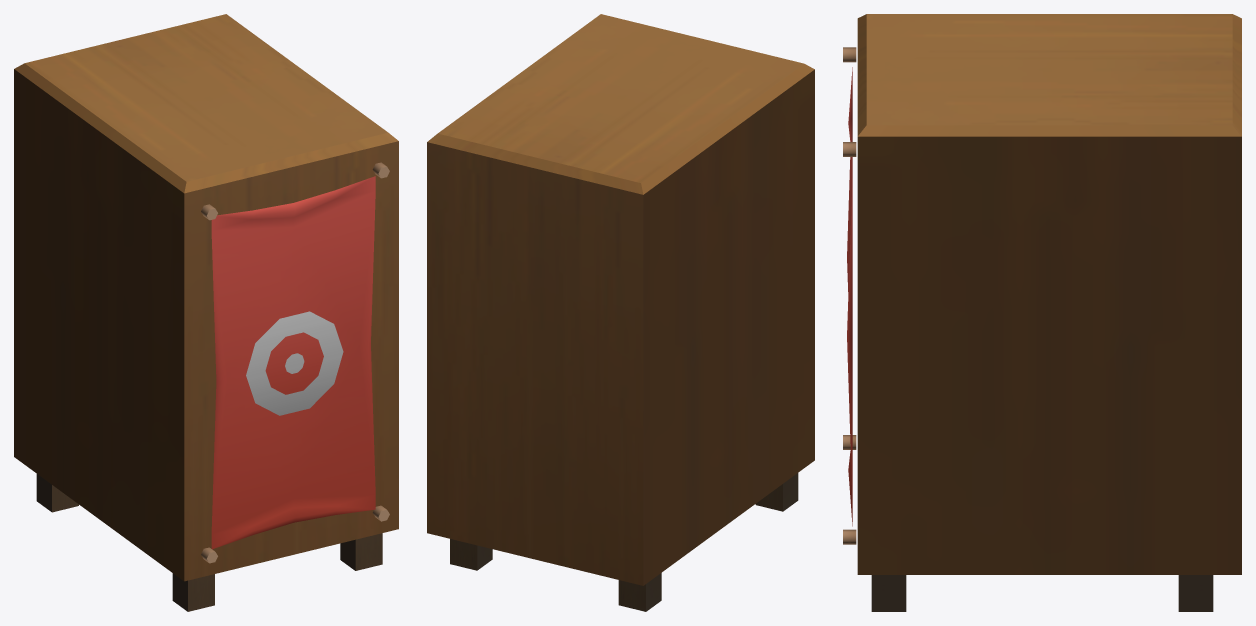
The picture shows the model from 3 angles, left to right: view 1: azimuth 30°, elevation 25°; view 2: azimuth 150°, elevation 25°; view 3: azimuth 270°, elevation 25°; orthographic projection. The views are drawn at different scales.
Parts seen in each view (by area): view 1: SK_Box_wood, SK_Box_fabric; view 2: SK_Box_wood; view 3: SK_Box_wood, SK_Box_fabric.
Boxes of the visible parts, x1,y1,x2,y2 form: SK_Box_wood: (14, 14, 398, 611); SK_Box_fabric: (201, 162, 389, 563); SK_Box_wood: (427, 14, 814, 611); SK_Box_wood: (857, 14, 1241, 611); SK_Box_fabric: (843, 47, 856, 544).
Bounding box in the file's own units: 43.44 × 83.66 × 61.87.
